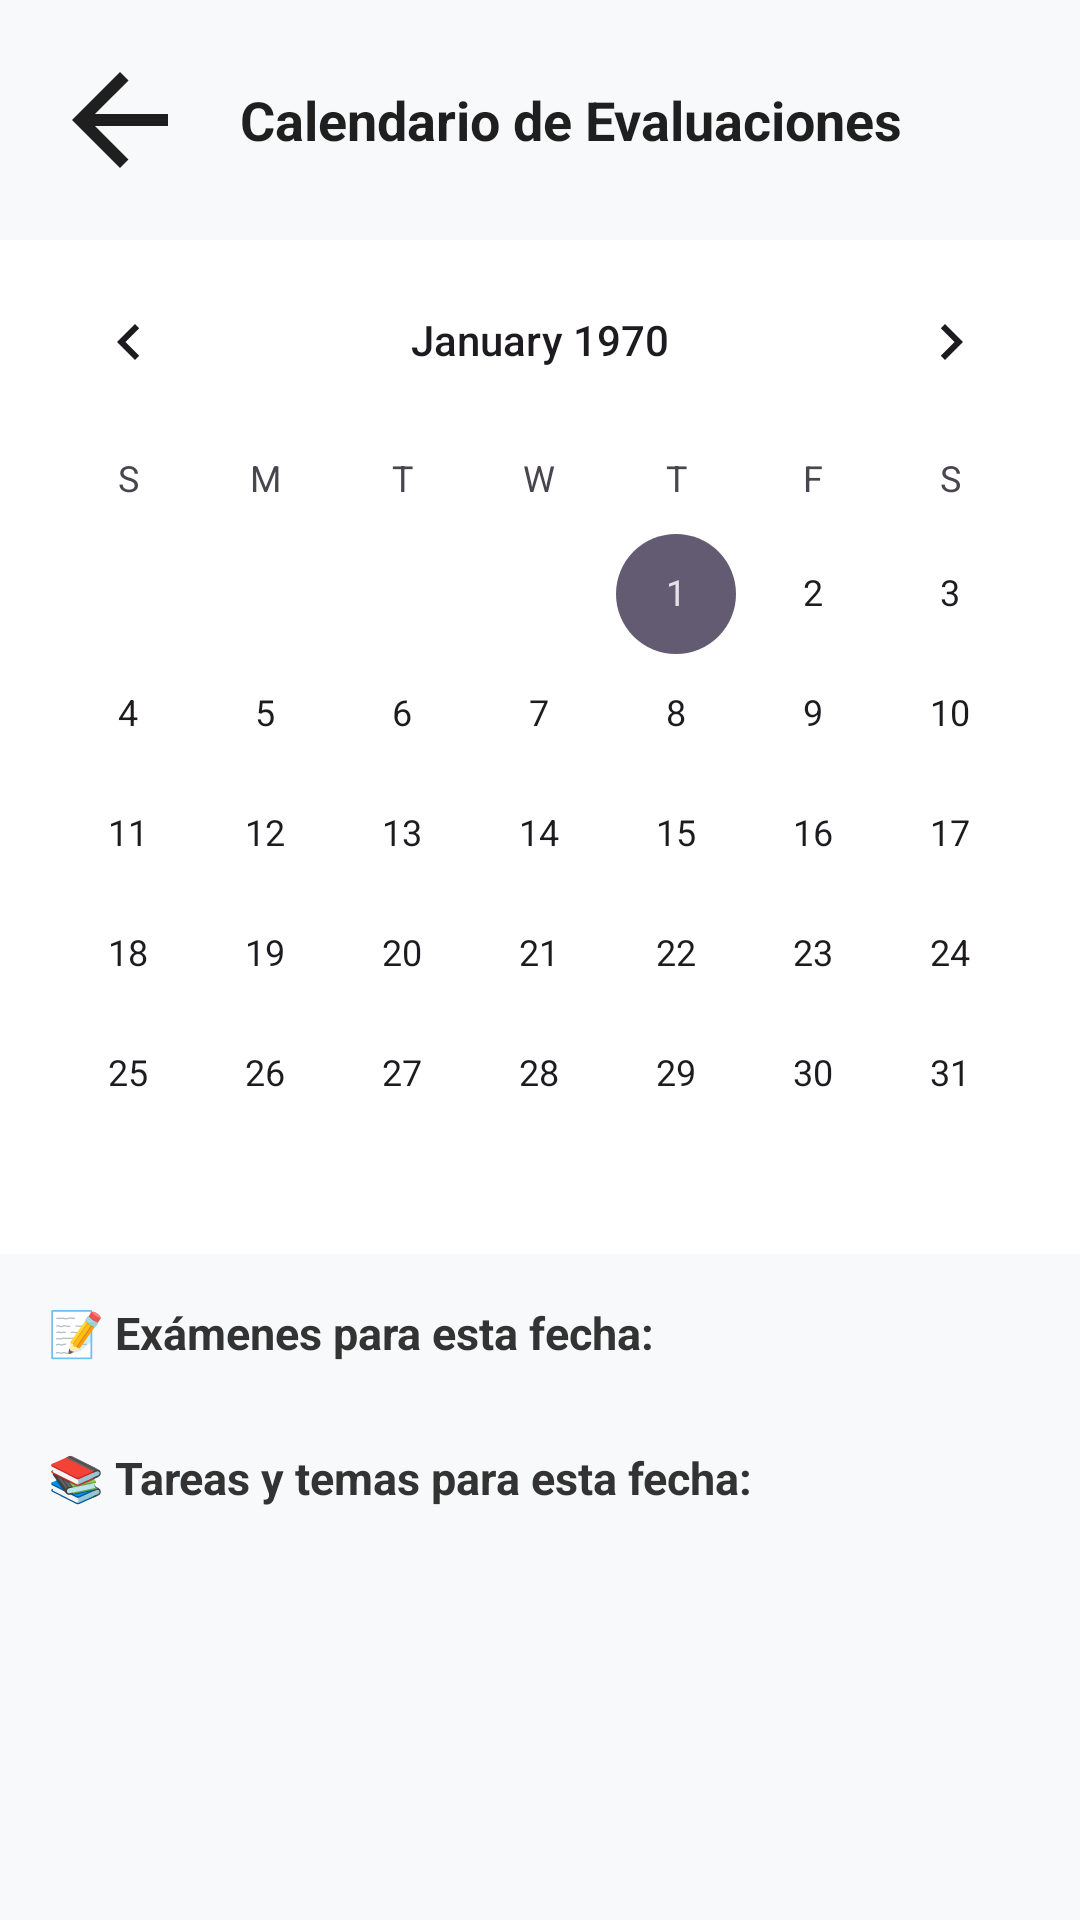

Screen size 1080px x 1920px. Icon name, then its box in pixels as box=[x1, y1, x2, y2]:
Volver: box=[72, 72, 168, 168]
